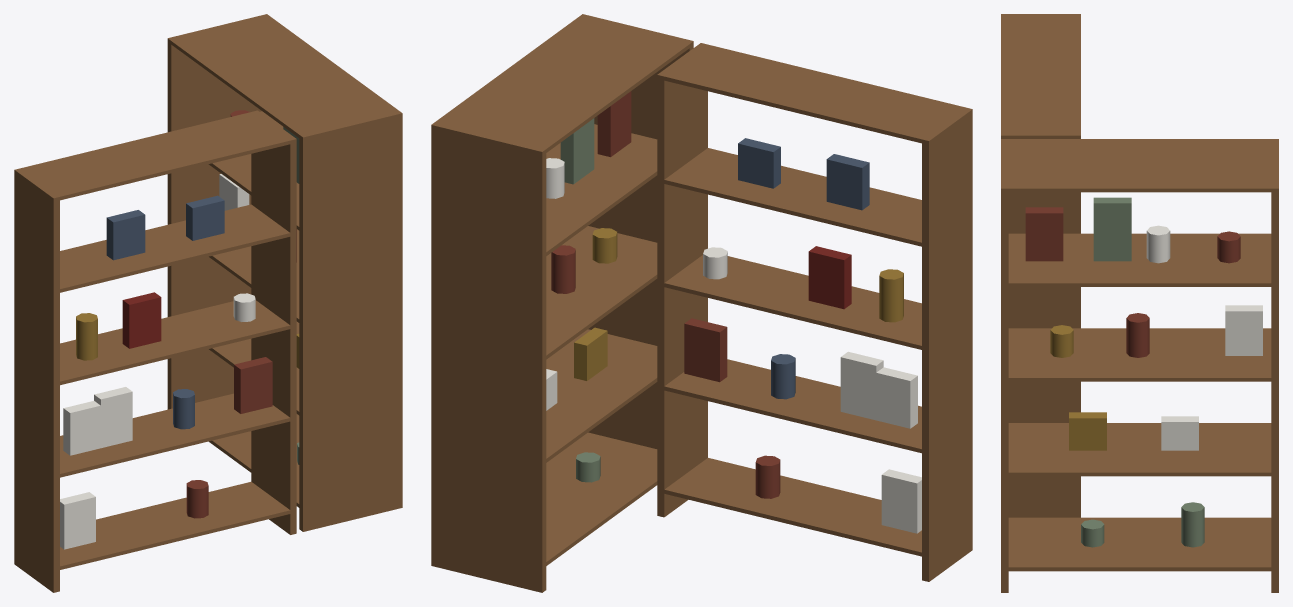
File: pantry-shelves.glb
3 views of the same model, side by side, from view 1: azimuth 30°, elevation 25°; view 2: azimuth 150°, elevation 25°; view 3: azimuth 270°, elevation 25° (orthographic). The views are drawn at different scales.
Parts seen in each view (by area): view 1: shelving (×2); view 2: shelving (×2); view 3: shelving (×2).
Boxes of the visible parts, x1,y1,x2,y2 form: shelving (×2): (14, 14, 402, 592); shelving (×2): (431, 14, 972, 592); shelving (×2): (1001, 14, 1278, 592).
Size of the model in its own units: 6.02 by 6.5 by 4.05.
